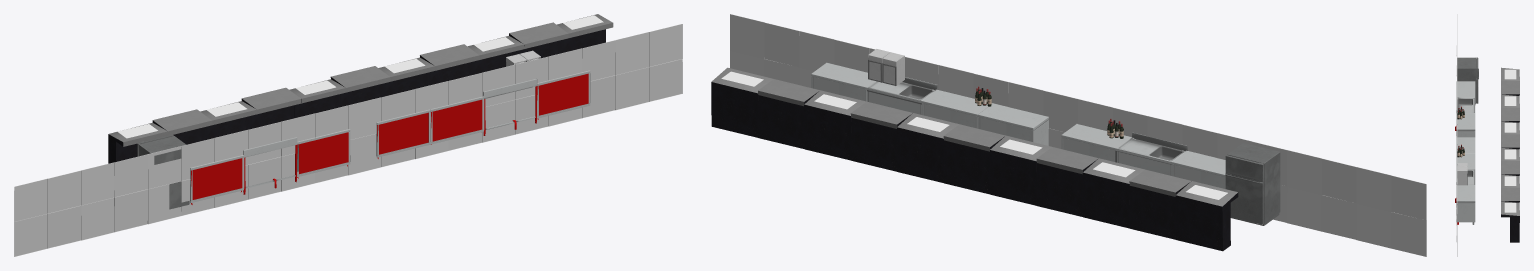
File: Cabinet.fbx
The picture shows the model from 3 angles, left to right: view 1: azimuth 30°, elevation 25°; view 2: azimuth 150°, elevation 25°; view 3: azimuth 270°, elevation 25°; orthographic projection. The views are drawn at different scales.
Visible parts, largest first — view 1: Cabinet; view 2: Cabinet; view 3: Cabinet.
Part boxes in pixels (x1=…): Cabinet: x1=14, y1=14, x2=682, y2=256; Cabinet: x1=711, y1=14, x2=1426, y2=256; Cabinet: x1=1455, y1=14, x2=1519, y2=256.
Bounding box in the file's own units: 1500 × 153 × 206.
